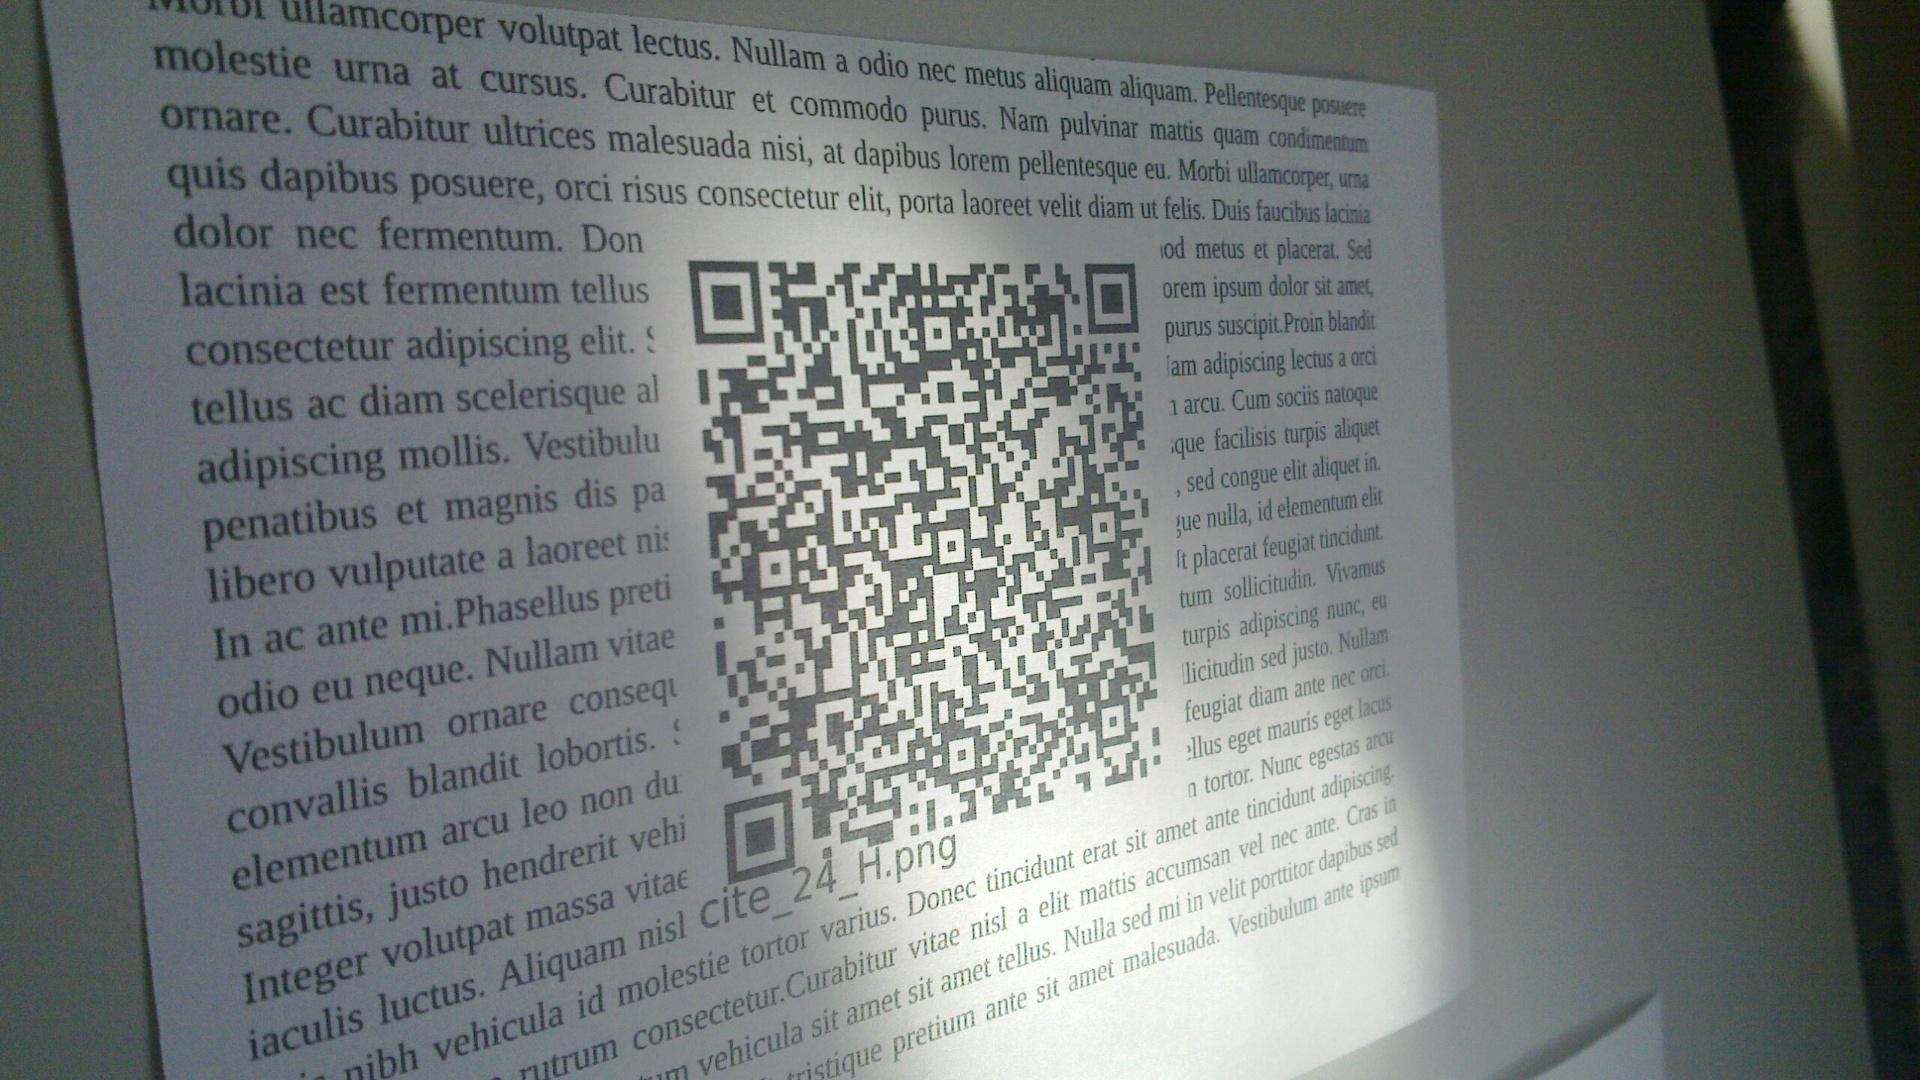Finder pattern: (675, 255, 767, 352), (713, 785, 800, 885), (1083, 256, 1143, 338)
